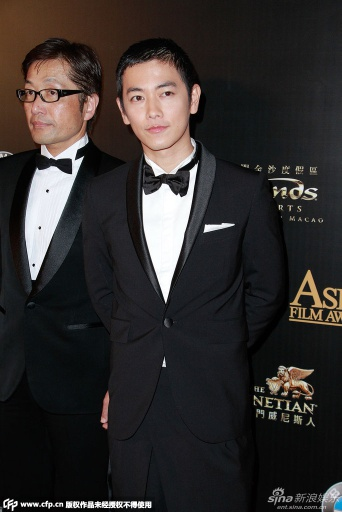male: (115, 37, 207, 158), (18, 33, 106, 147)
